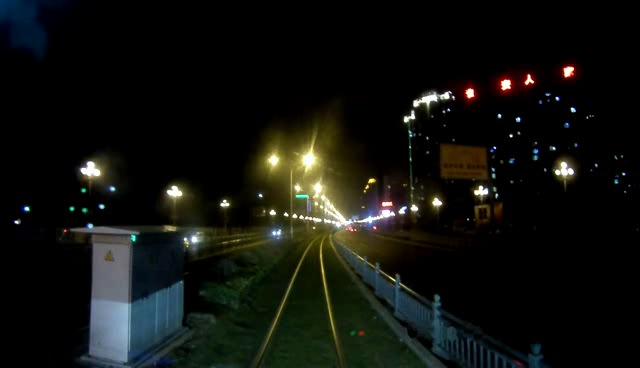car: (183, 231, 217, 248)
